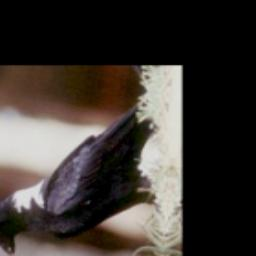Crow: (0, 75, 173, 256)
